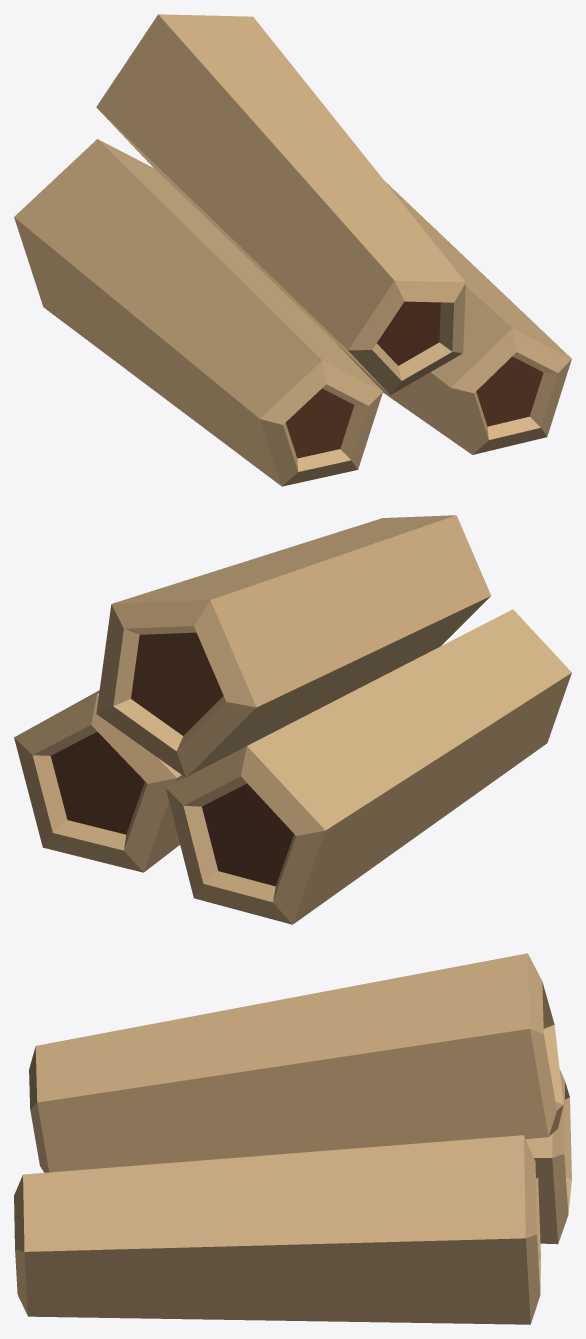
The model's file is 690 Logs.fbx.
3 views of the same model, one above another, from view 1: azimuth 30°, elevation 25°; view 2: azimuth 150°, elevation 25°; view 3: azimuth 270°, elevation 25° (orthographic). The views are drawn at different scales.
Parts seen in each view (by area): view 1: Log 1 3, Log 1 1, Log 1 2; view 2: Log 1 1, Log 1 3, Log 1 2; view 3: Log 1 2, Log 1 3, Log 1 1.
Part boxes in pixels (<box>): Log 1 3: <box>96,14,465,394</box>; Log 1 1: <box>14,139,382,486</box>; Log 1 2: <box>336,181,571,454</box>; Log 1 1: <box>166,609,571,924</box>; Log 1 3: <box>96,515,490,777</box>; Log 1 2: <box>14,690,184,872</box>; Log 1 2: <box>14,1135,540,1324</box>; Log 1 3: <box>29,953,563,1172</box>; Log 1 1: <box>526,1069,571,1244</box>.
Size of the model in its own units: 381 by 319 by 555.
